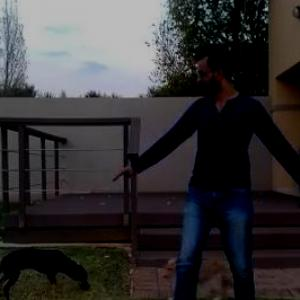land: (106, 31, 299, 299)
